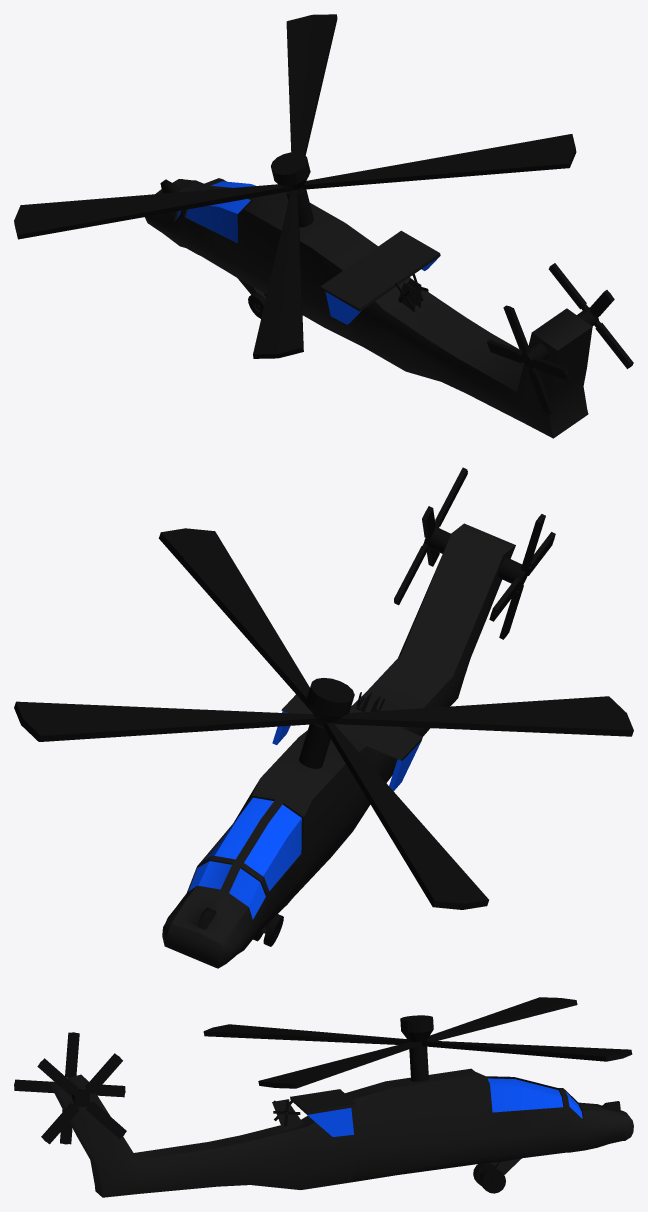
Rendered from Chopper.FBX.
The picture shows the model from 3 angles, top to bottom: view 1: azimuth 30°, elevation 25°; view 2: azimuth 150°, elevation 25°; view 3: azimuth 270°, elevation 25°; orthographic projection. The views are drawn at different scales.
Visible parts, largest first — view 1: HELICOPTERO003, Helice Central001, Helice Trasera002, Helice Trasera003; view 2: HELICOPTERO003, Helice Central001, Helice Trasera002, Helice Trasera003; view 3: HELICOPTERO003, Helice Central001, Helice Trasera003, Helice Trasera002, Rueda 008.
Part boxes in pixels (left/top/right/bottom): HELICOPTERO003: left=145, top=178, right=592, bottom=438; Helice Central001: left=14, top=14, right=576, bottom=358; Helice Trasera002: left=487, top=305, right=570, bottom=414; Helice Trasera003: left=548, top=263, right=633, bottom=368; HELICOPTERO003: left=162, top=523, right=515, bottom=968; Helice Central001: left=14, top=528, right=633, bottom=909; Helice Trasera002: left=489, top=514, right=555, bottom=639; Helice Trasera003: left=394, top=467, right=467, bottom=605; HELICOPTERO003: left=50, top=1068, right=633, bottom=1197; Helice Central001: left=203, top=997, right=632, bottom=1088; Helice Trasera003: left=37, top=1053, right=126, bottom=1144; Helice Trasera002: left=14, top=1032, right=125, bottom=1144; Rueda 008: left=481, top=1169, right=505, bottom=1193.
Size of the model in its own units: 22.57 by 11.33 by 33.43.
